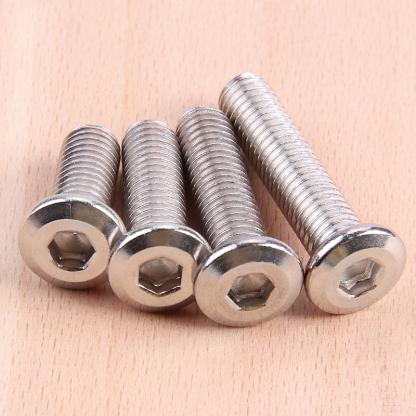FOD: (217, 70, 410, 317), (175, 104, 306, 330), (106, 116, 211, 312), (16, 123, 121, 291)
